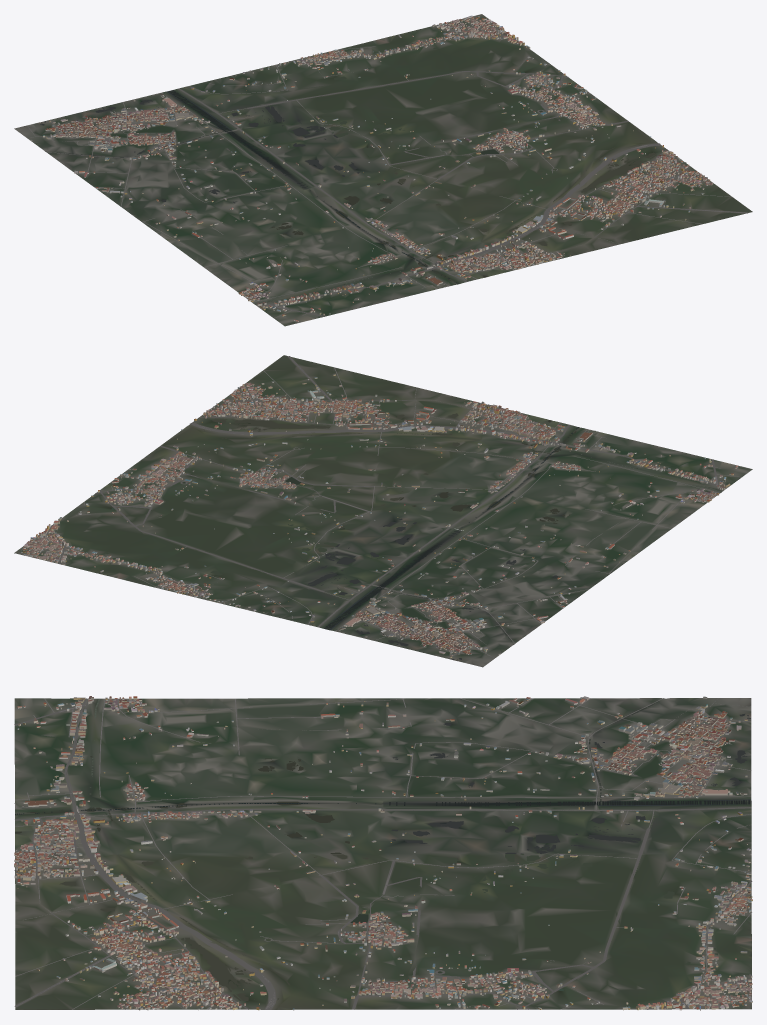
The picture shows the model from 3 angles, top to bottom: view 1: azimuth 30°, elevation 25°; view 2: azimuth 150°, elevation 25°; view 3: azimuth 270°, elevation 25°; orthographic projection. The views are drawn at different scales.
Parts seen in each view (by area): view 1: ground, buildings, roads, water; view 2: ground, buildings, roads, water; view 3: ground, buildings, roads, water.
Boxes of the visible parts, x1,y1,x2,y2 form: ground: (14, 14, 752, 326); buildings: (30, 15, 713, 322); roads: (27, 20, 747, 318); water: (40, 35, 663, 303); ground: (14, 355, 752, 667); buildings: (21, 374, 737, 657); roads: (21, 356, 741, 658); water: (97, 413, 721, 660); ground: (14, 698, 751, 1009); buildings: (14, 696, 752, 1010); roads: (14, 698, 752, 1009); water: (15, 699, 751, 1000).
Size of the model in its own units: 2820 by 24.79 by 2813.
